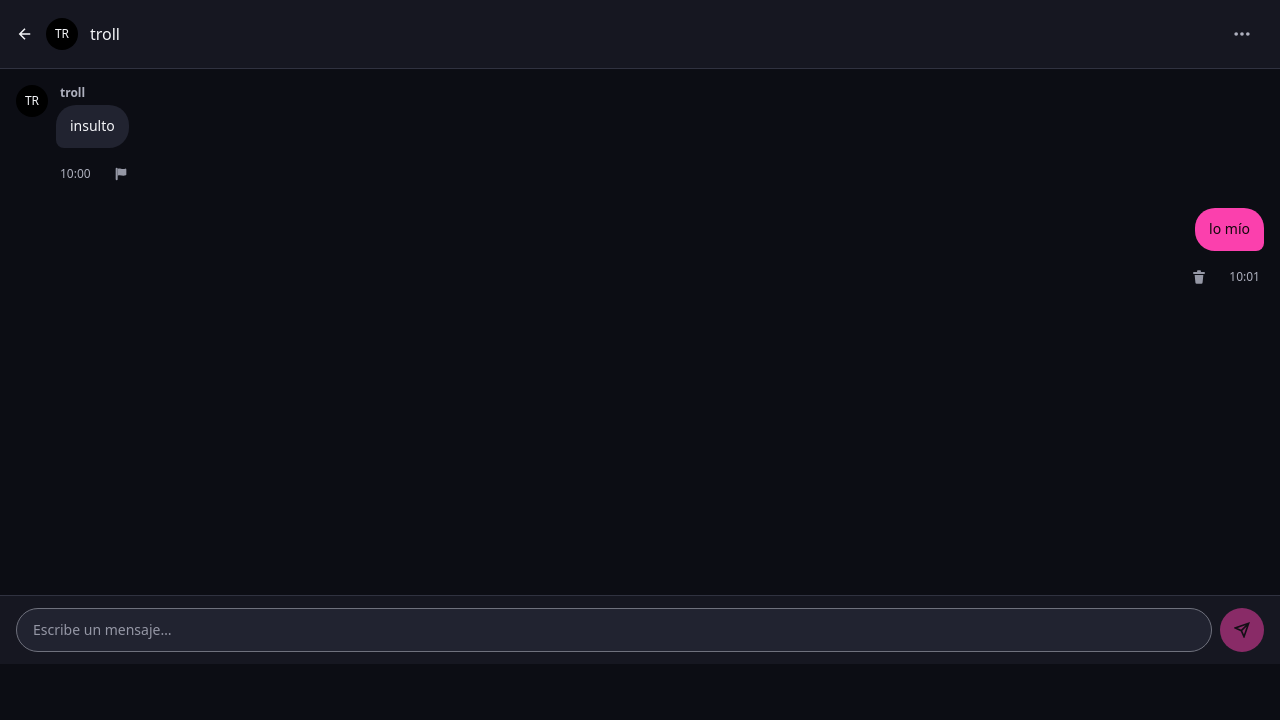
Test: ConversationClient con MODERATION_V2 › opciones: desplegable con aria-expanded; bloquear confirma y cierra el campo de texto con explicación
Check: the text "insulto" is shown, box [56,105,129,148]
Click the button named "Opciones de la conversación". click: [1242, 34]
box: [1220,12,1264,56]
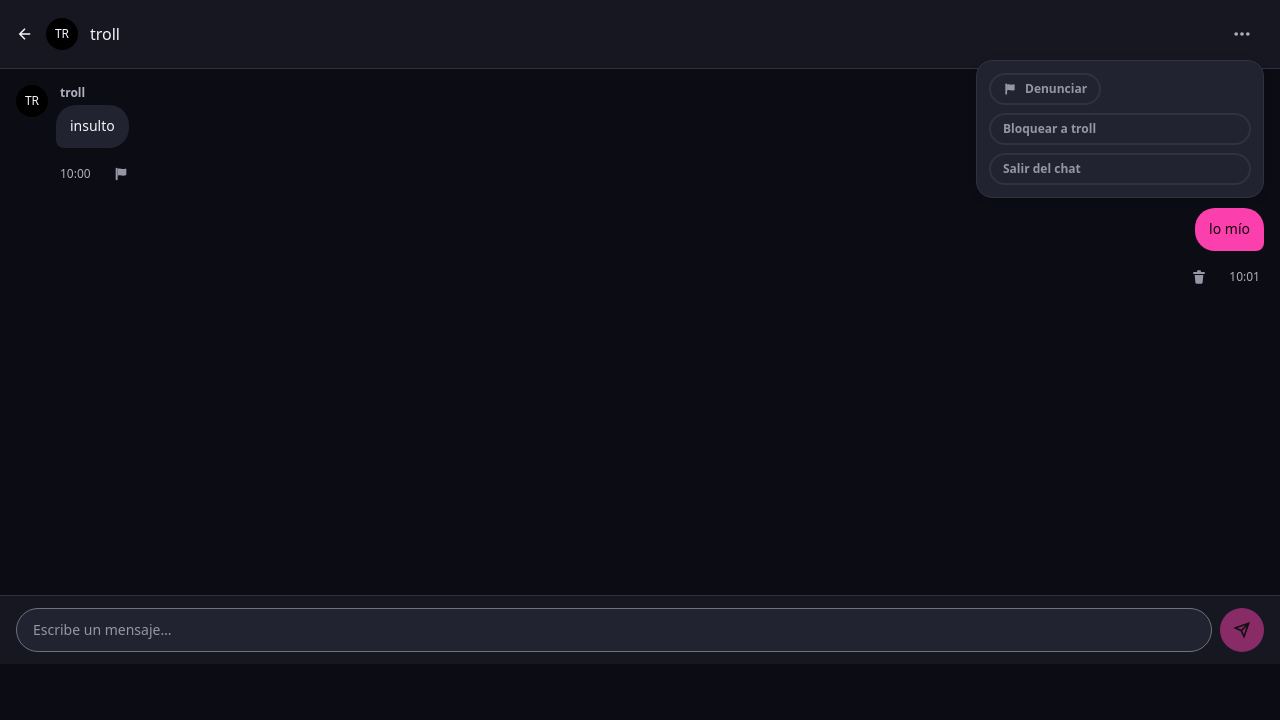
Check: the button with aria-label "Denunciar usuario: troll" is shown, box [989,73,1101,105]
Click the button "Bloquear a troll". click: [1050, 128]
box: [989,113,1251,145]
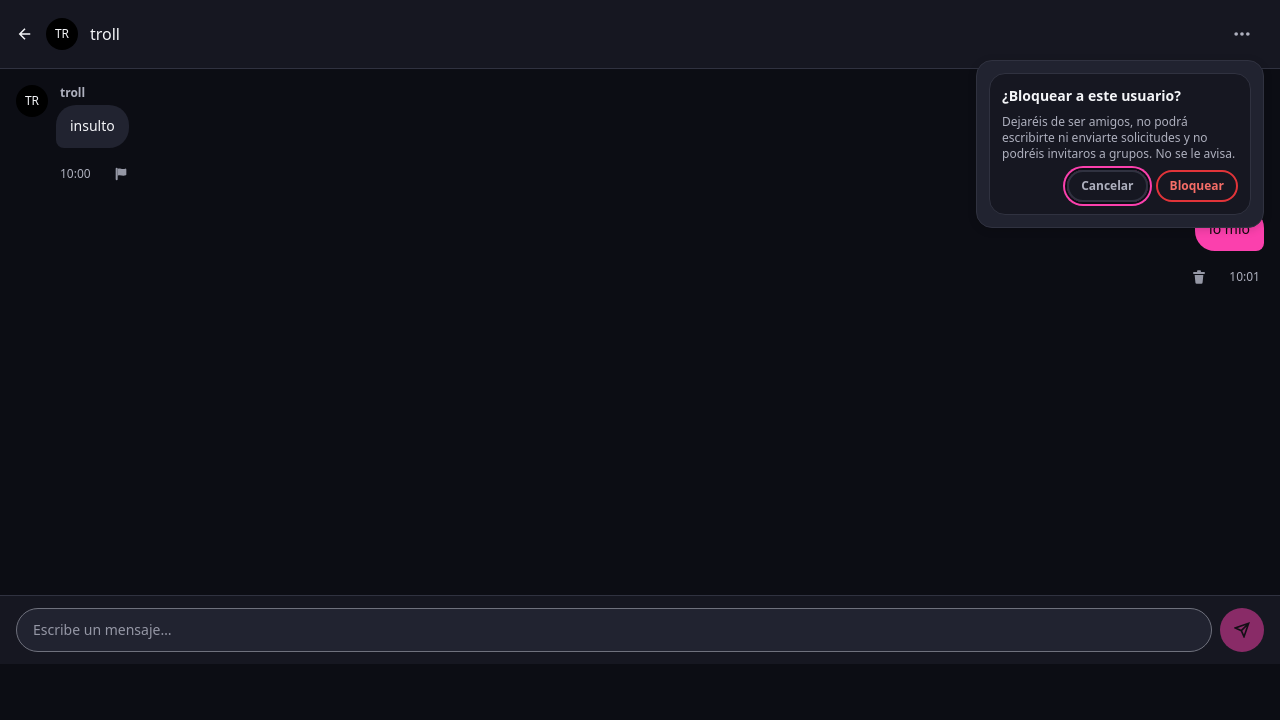
Click the button "Bloquear". click: [1197, 186]
box: [1156,170,1238,202]
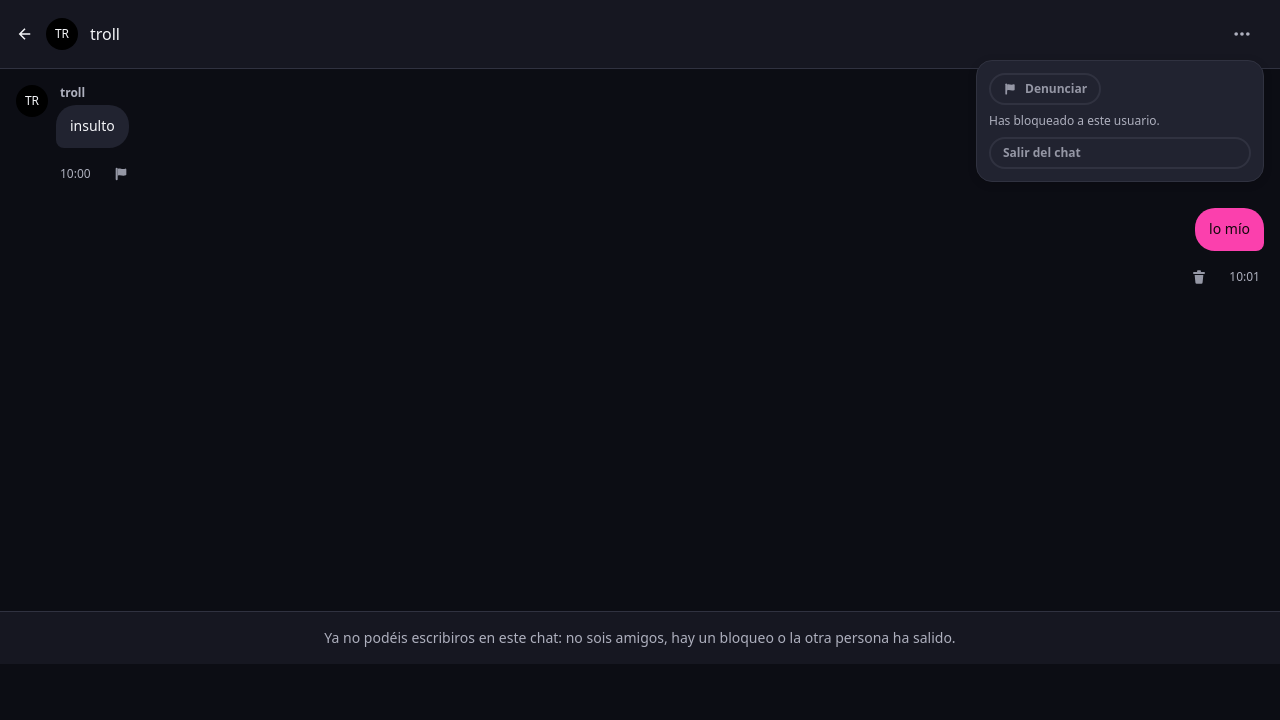
Check: the text "Ya no podéis escribiros" is shown, box [324,628,956,647]
Check: the field labelled "Mensaje" is gone
